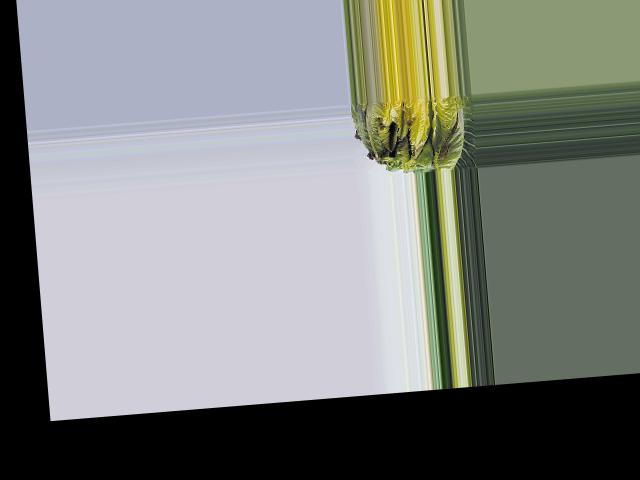lettuce: (354, 93, 477, 175)
